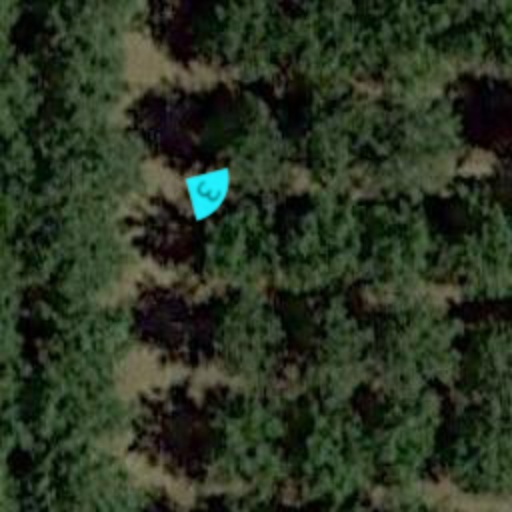quarter_circle: (168, 152, 248, 232)
